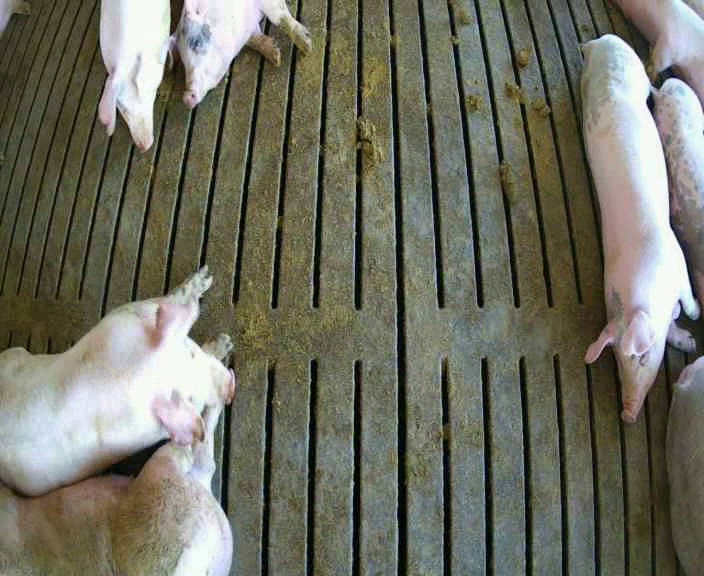pig: (0, 266, 234, 495), (582, 35, 698, 421), (0, 405, 231, 574), (168, 1, 311, 107), (653, 78, 703, 308), (99, 2, 169, 150), (618, 2, 703, 108), (666, 356, 703, 574)
